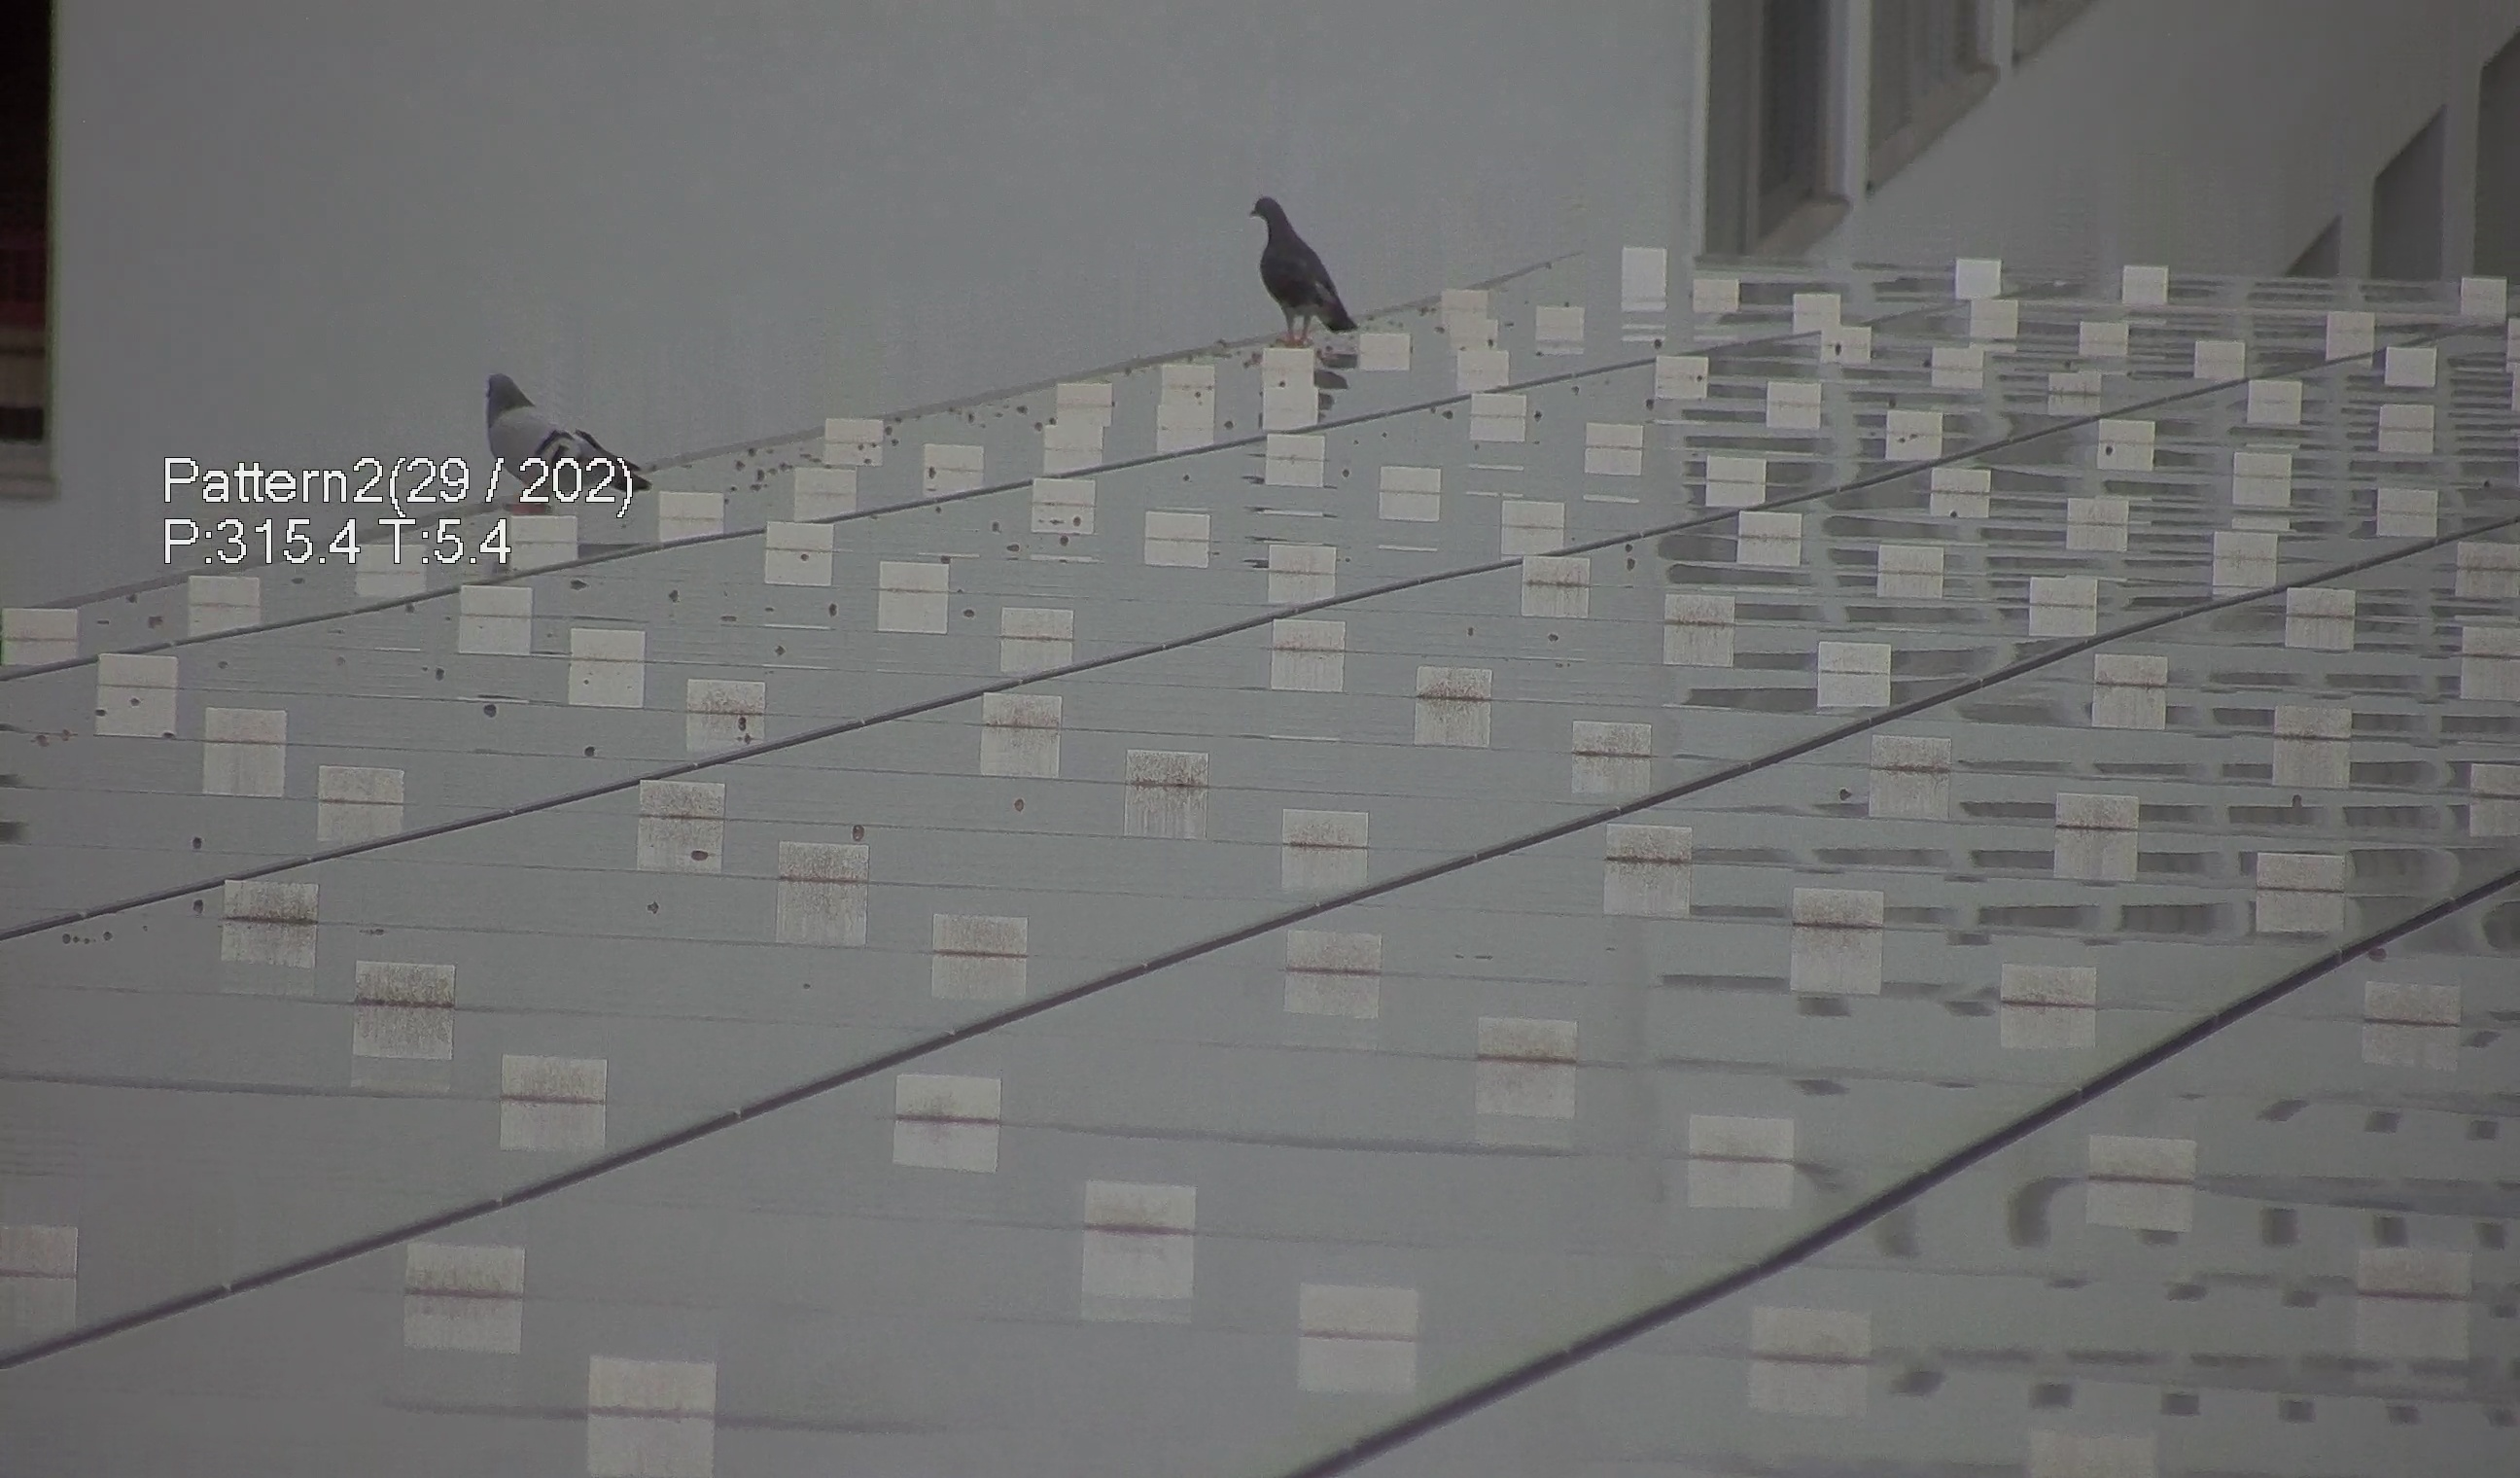Pigeon: (470, 357, 642, 503), (1235, 181, 1365, 348)
